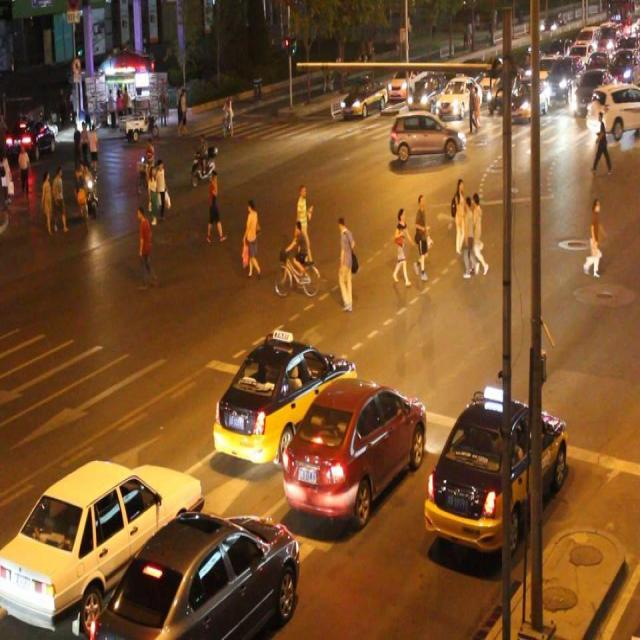car: (2, 420, 194, 621), (104, 494, 295, 640), (424, 376, 578, 533), (206, 320, 345, 471), (277, 376, 418, 522), (574, 67, 640, 172), (387, 115, 471, 180), (331, 66, 387, 134), (437, 78, 480, 140), (387, 60, 424, 114)
